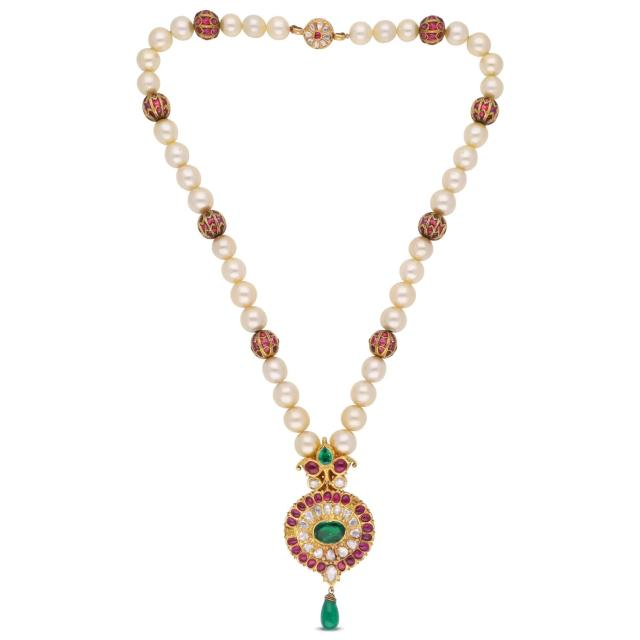missing gem: (350, 498, 359, 507), (285, 529, 295, 536)
